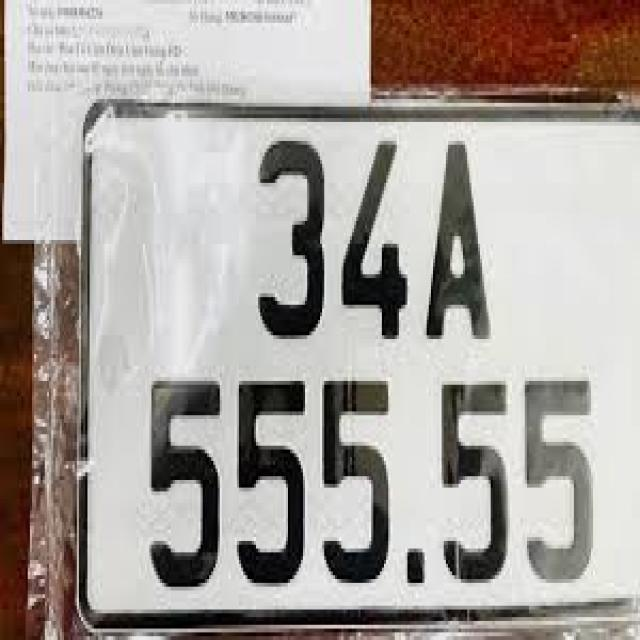bien_so: (73, 96, 638, 630)
